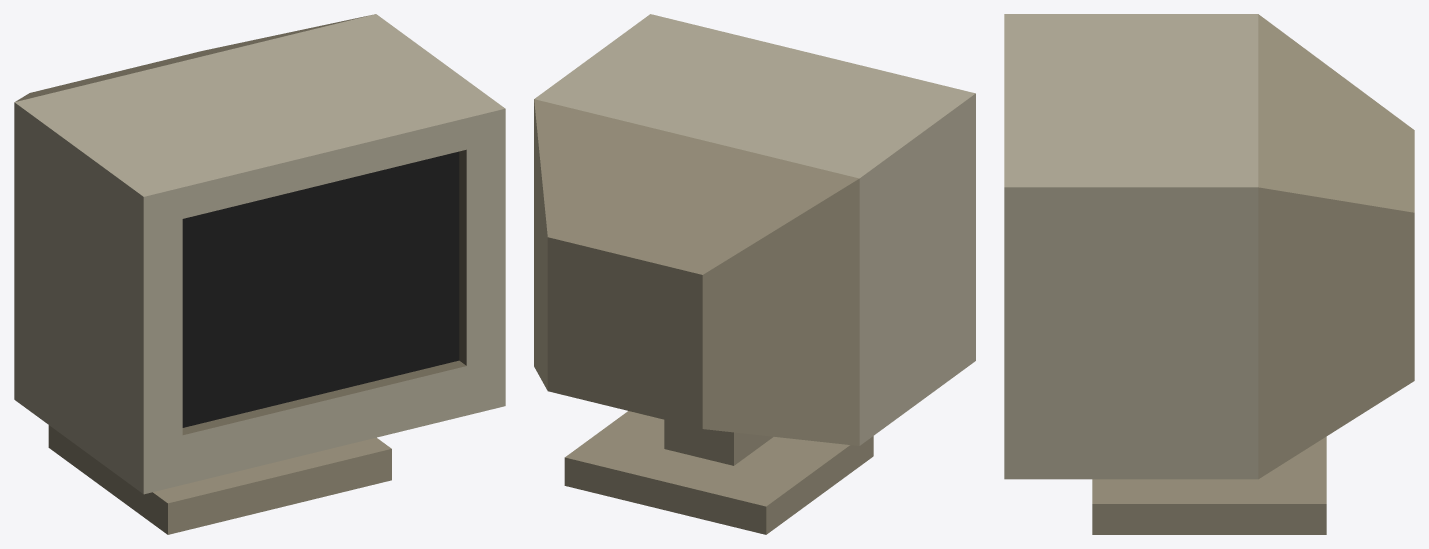
File: prop_crt17.obj
3 views of the same model, side by side, from view 1: azimuth 30°, elevation 25°; view 2: azimuth 150°, elevation 25°; view 3: azimuth 270°, elevation 25° (orthographic). The views are drawn at different scales.
Parts seen in each view (by area): view 1: prop_crt17; view 2: prop_crt17; view 3: prop_crt17.
Part boxes in pixels (<box>): prop_crt17: <box>14,14,505,534</box>; prop_crt17: <box>534,14,975,534</box>; prop_crt17: <box>1004,14,1414,534</box>.
Bounding box in the file's own units: 0.42 × 0.43 × 0.42.
